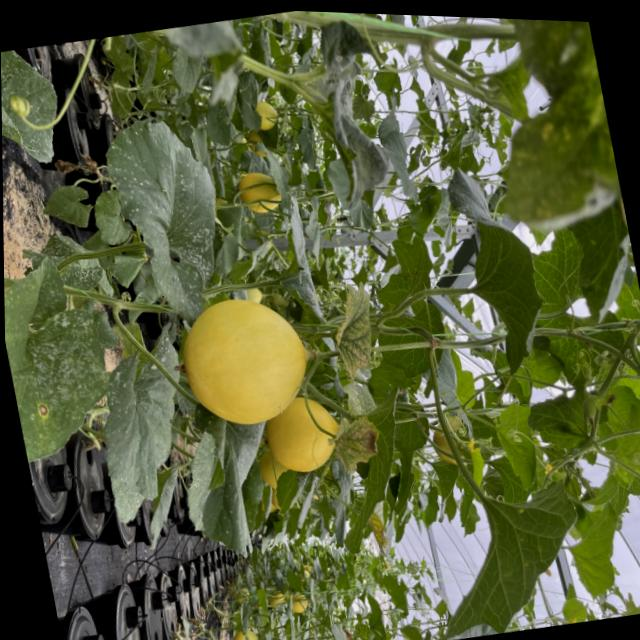alternaria leaf blight: (4, 239, 122, 473), (326, 402, 385, 482)
downy mildew: (94, 97, 245, 333), (4, 246, 129, 472), (75, 321, 211, 518), (303, 265, 386, 405), (1, 43, 70, 176)
healthy: (420, 449, 602, 640), (449, 164, 552, 377), (349, 222, 461, 394), (169, 406, 285, 565), (562, 450, 640, 586), (574, 381, 640, 520), (514, 384, 599, 463)
